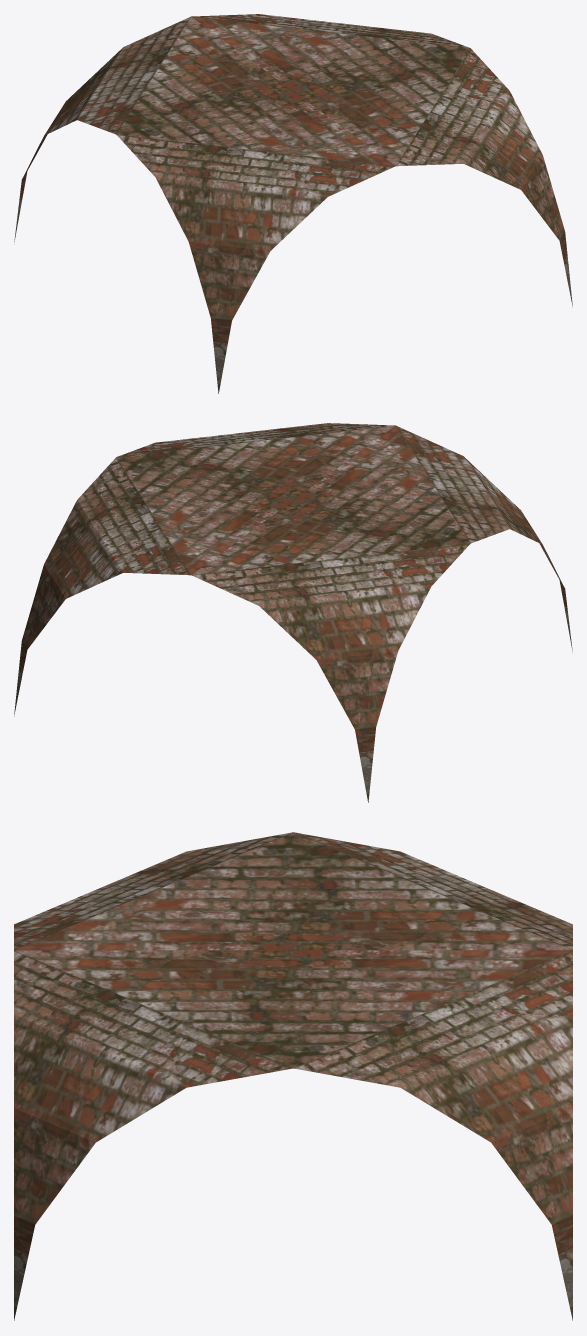
File: tunnel_Wall5_GEO.fbx
The picture shows the model from 3 angles, top to bottom: view 1: azimuth 30°, elevation 25°; view 2: azimuth 150°, elevation 25°; view 3: azimuth 270°, elevation 25°; orthographic projection. The views are drawn at different scales.
Parts seen in each view (by area): view 1: tunnel_Wall5_GEO; view 2: tunnel_Wall5_GEO; view 3: tunnel_Wall5_GEO.
Boxes of the visible parts, x1,y1,x2,y2 form: tunnel_Wall5_GEO: (14, 14, 572, 393); tunnel_Wall5_GEO: (14, 423, 572, 802); tunnel_Wall5_GEO: (14, 832, 572, 1320).
Bounding box in the file's own units: 5 × 2.5 × 5.
